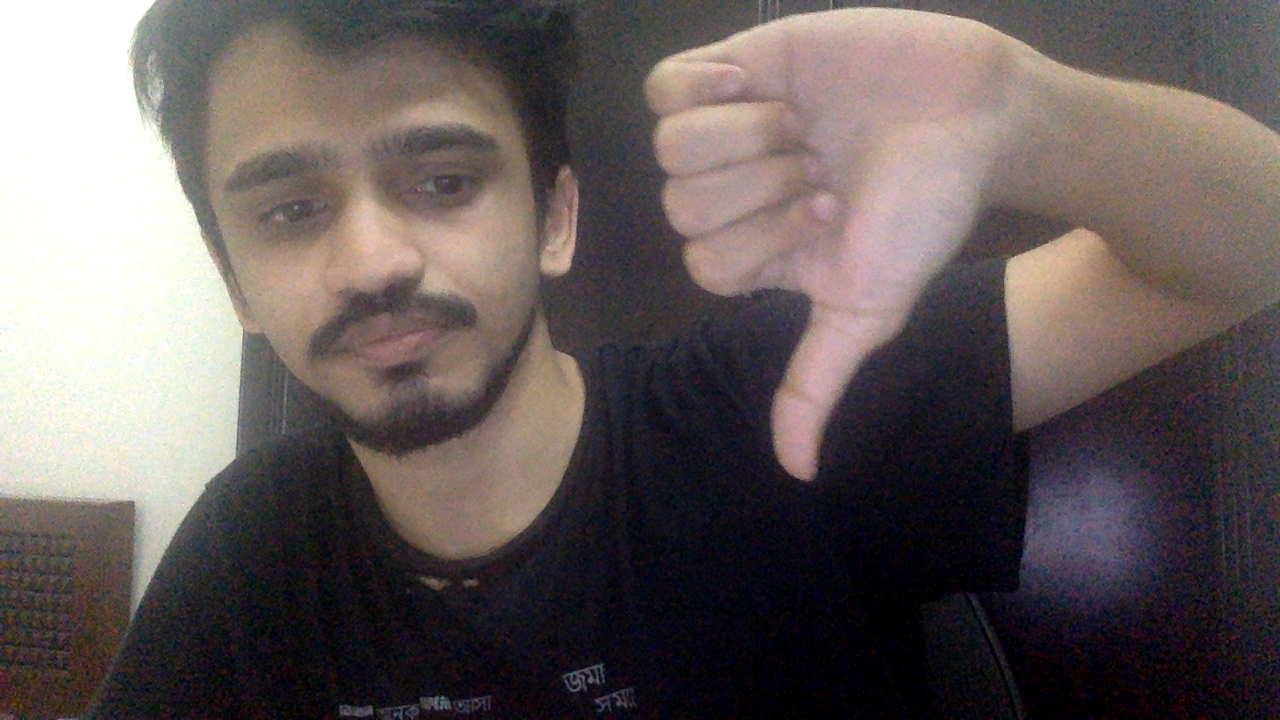bad: (645, 10, 1003, 482)
